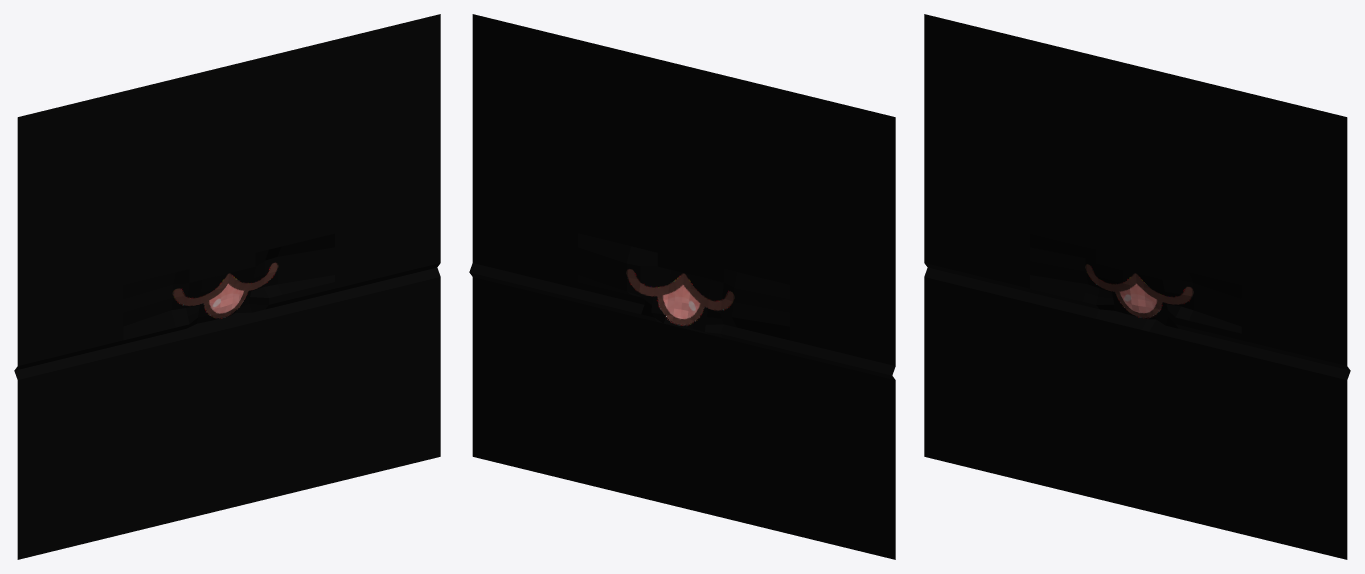
The model's file is mouth_cat.glb.
3 renders of one model, left to right at view 1: azimuth 30°, elevation 25°; view 2: azimuth 150°, elevation 25°; view 3: azimuth 330°, elevation 25°, orthographic.
Parts seen in each view (by area): view 1: mouth_cat; view 2: mouth_cat; view 3: mouth_cat.
Boxes of the visible parts, left/top/right/bottom form: mouth_cat: left=14, top=14, right=440, bottom=559; mouth_cat: left=469, top=14, right=895, bottom=559; mouth_cat: left=924, top=14, right=1350, bottom=559.
Size of the model in its own units: 0.406 by 0.406 by 0.012.
1 material, 1 textured.
